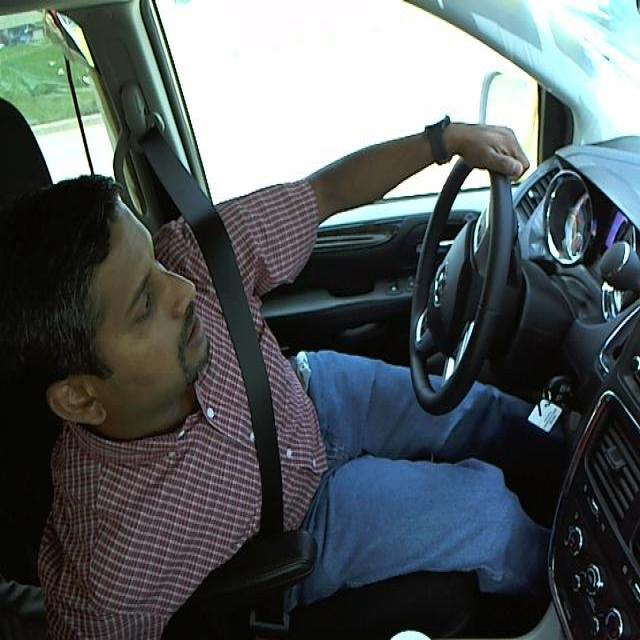seatbelt: (203, 259, 311, 549)
